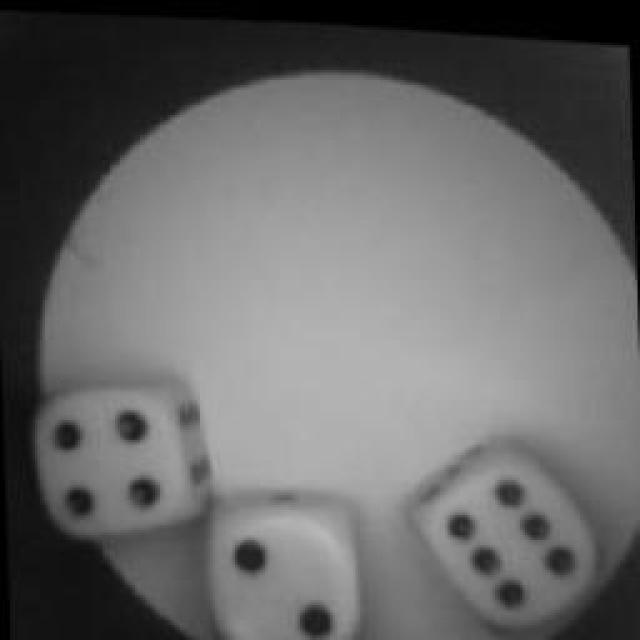dice_2: (200, 490, 360, 640)
dice_4: (32, 371, 202, 554)
dice_6: (425, 440, 597, 632)
